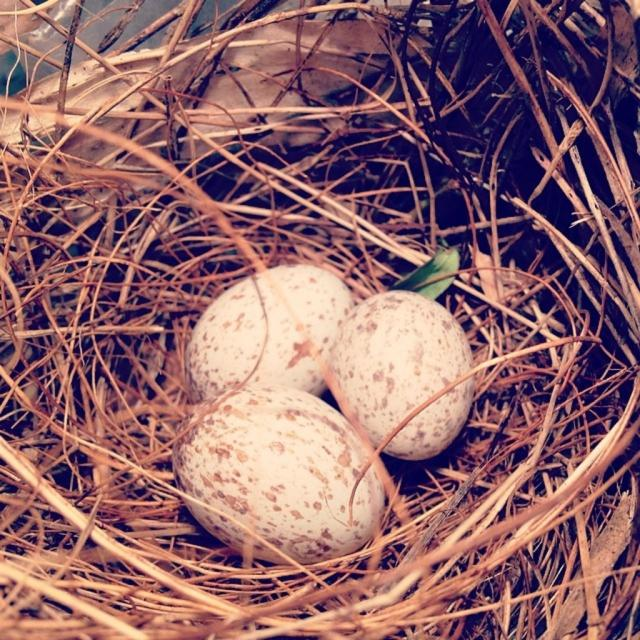Egg: (170, 264, 474, 564)
